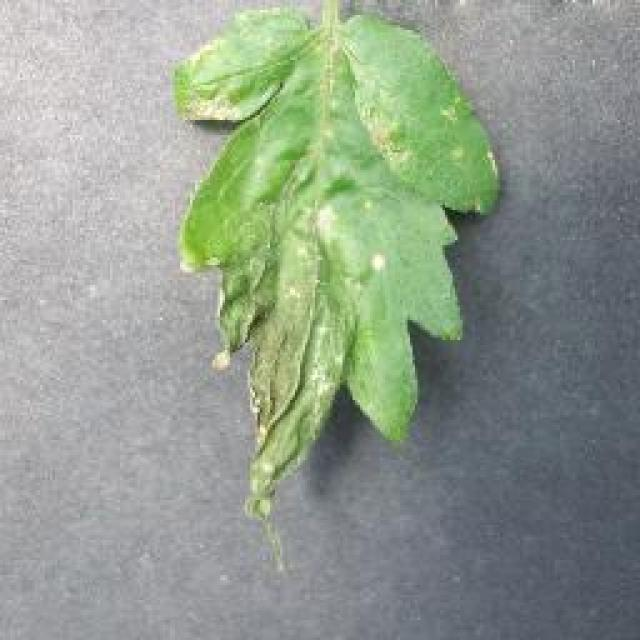Tomato late blight leaf: (168, 8, 504, 525)
